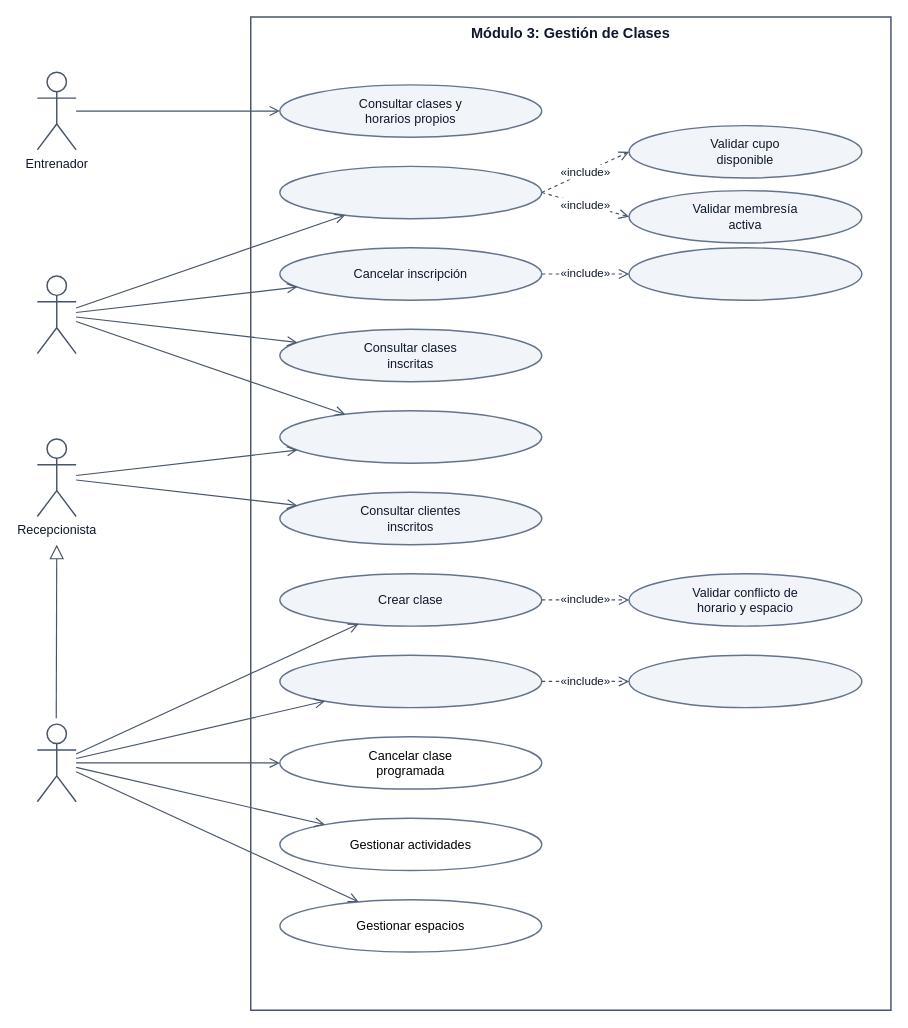
The diagram is 908 pixels wide and 1028 high, and some of its shapes have lost their labels. The centre of each missing label's shape, as x and y in pixels:
Administrador: the point at 56,762
Asignar entrenador a clase: the point at 410,681
Cliente: the point at 56,314
Consultar clases disponibles: the point at 410,436
Inscribirse en clase: the point at 410,192
Liberar cupo: the point at 745,274
Validar disponibilidad del entrenador: the point at 745,681
